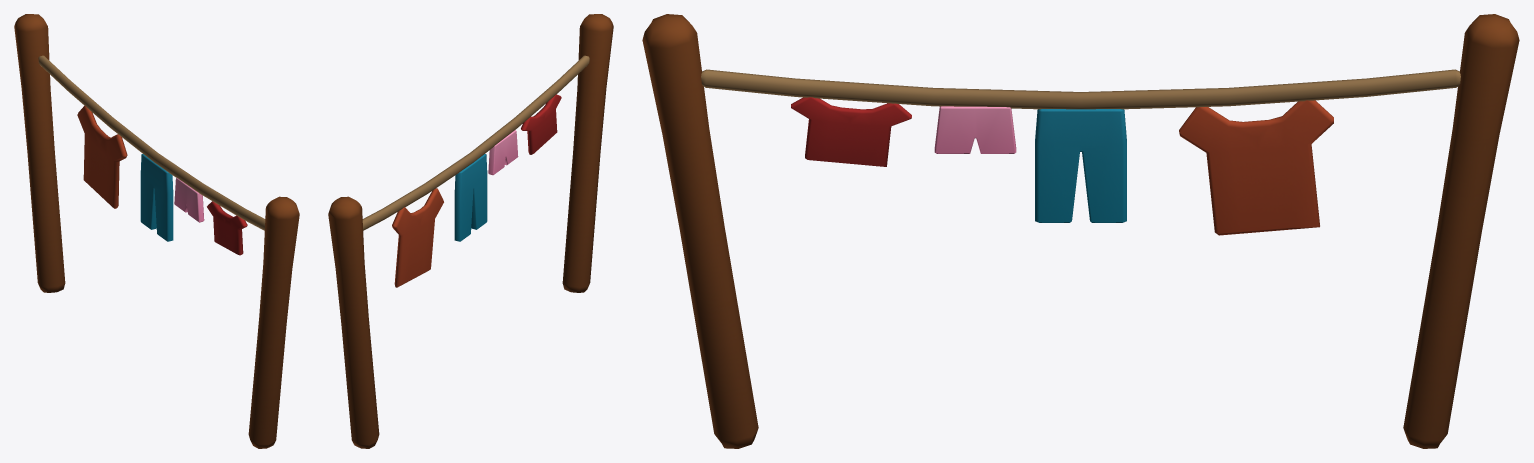
Rendered from pyykkinaru.fbx.
3 renders of one model, left to right at view 1: azimuth 30°, elevation 25°; view 2: azimuth 150°, elevation 25°; view 3: azimuth 270°, elevation 25°, orthographic. The views are drawn at different scales.
Visible parts, largest first — view 1: pCube13; view 2: pCube13; view 3: pCube13.
Boxes of the visible parts, x1=… form: pCube13: x1=14, y1=14, x2=299, y2=448; pCube13: x1=328, y1=14, x2=613, y2=448; pCube13: x1=642, y1=14, x2=1519, y2=448.
Bounding box in the file's own units: 0.1359 × 1.16 × 2.16.
Materials: 1 (1 with a texture image).
